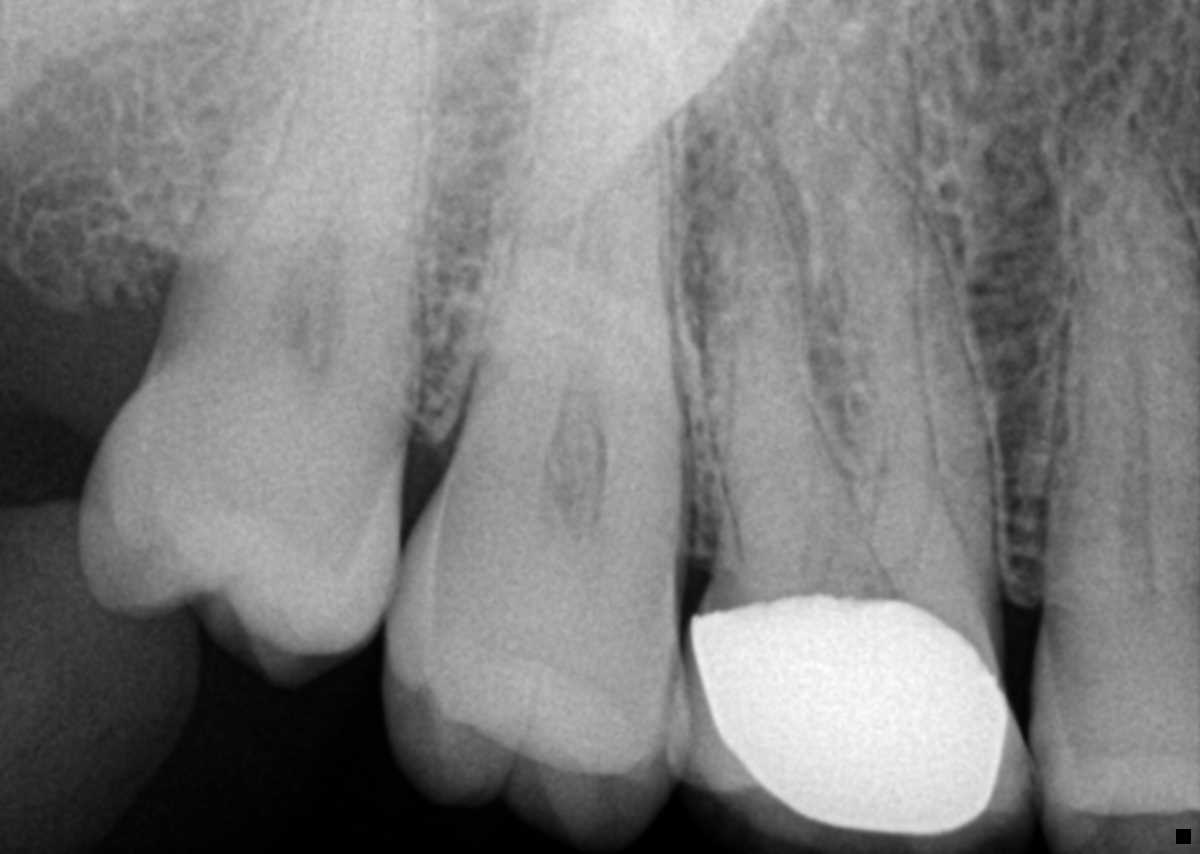Apical Lesion: (677, 101, 810, 341)
Distal Root: (699, 176, 854, 539)
Main Canal: (1088, 188, 1157, 583)
Main Root: (458, 0, 685, 530), (180, 0, 431, 385), (1040, 95, 1200, 595)
Mesial Root: (777, 120, 990, 499)
Palatal Root: (715, 0, 979, 568)
